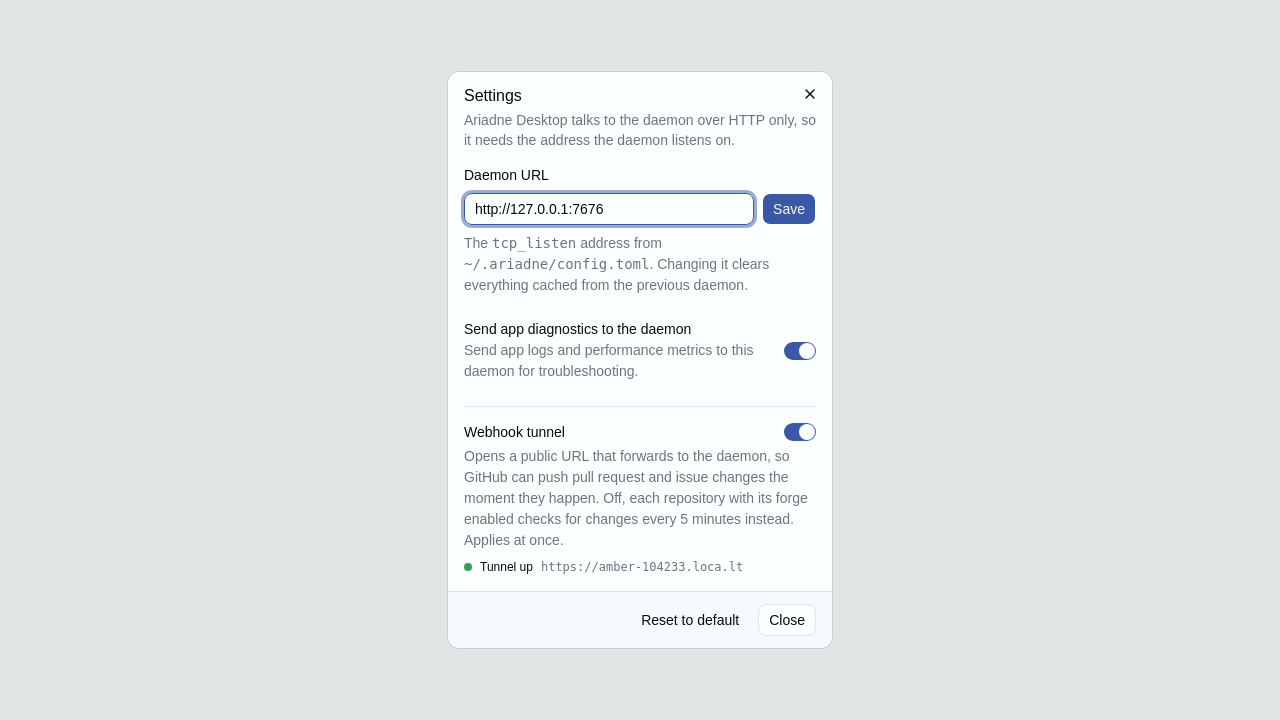
SettingsDialog › shows the field error and saves nothing for an invalid URL
This screenshot has width=1280, height=720.
Type "not a url" into the field labelled "Daemon URL" at (609, 209), box [464, 193, 754, 225]
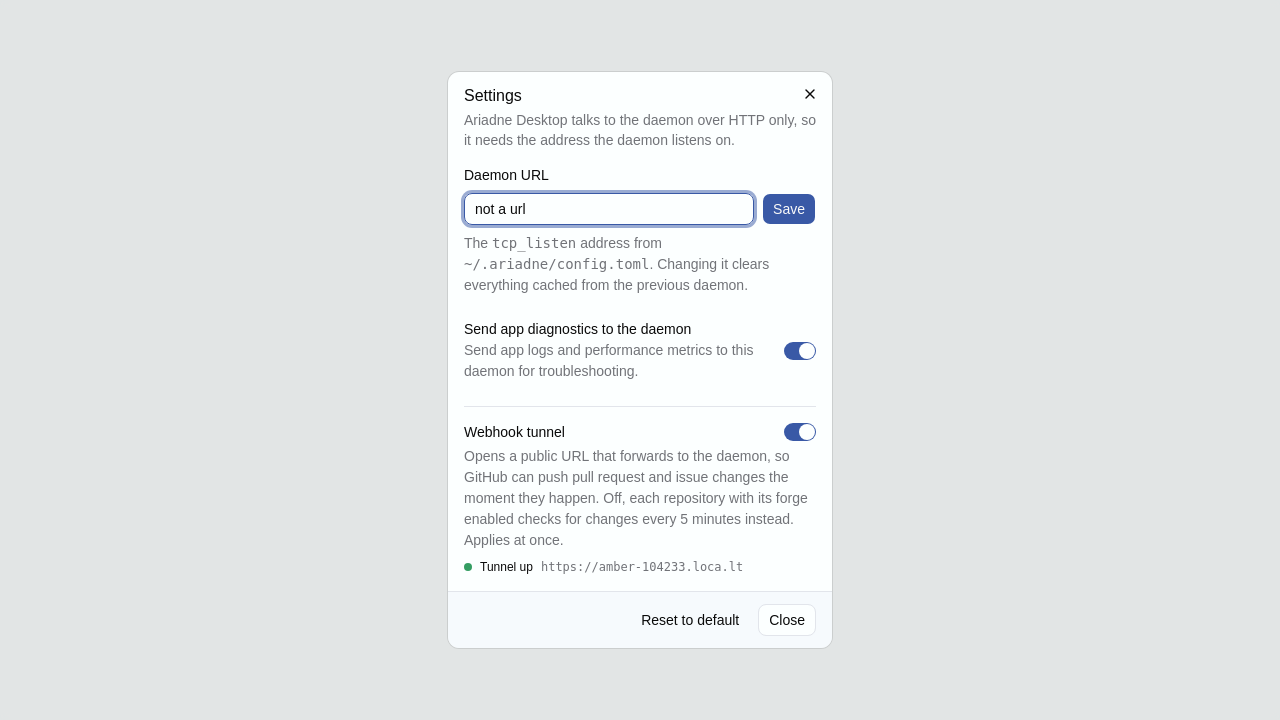
Click the button "Save" at (789, 209), box [762, 193, 816, 225]
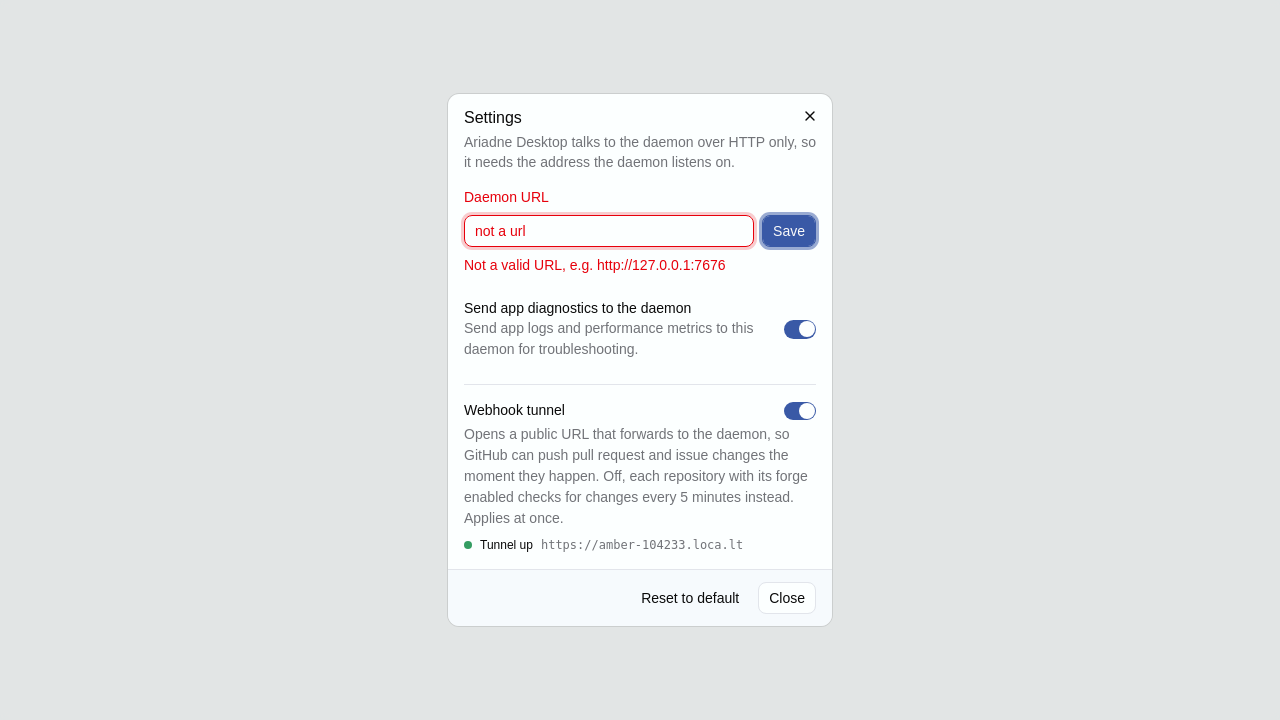
Expected: the text "Not a valid URL, e.g. http://127.0.0.1:7676" is shown, [464, 257, 726, 273]
